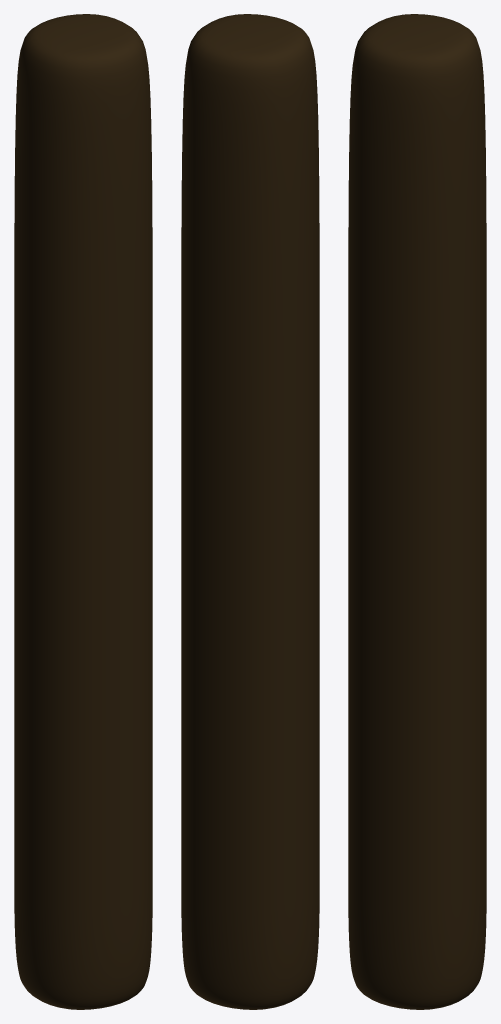
The model's file is wood_stick3.fbx.
3 views of the same model, side by side, from view 1: azimuth 30°, elevation 25°; view 2: azimuth 150°, elevation 25°; view 3: azimuth 330°, elevation 25° (orthographic).
Parts seen in each view (by area): view 1: Cube; view 2: Cube; view 3: Cube.
Part boxes in pixels (x1,y1,x2,y2): Cube: [14, 14, 152, 1009]; Cube: [181, 14, 319, 1009]; Cube: [348, 14, 486, 1009].
Size of the model in its own units: 183 by 1431 by 183.
